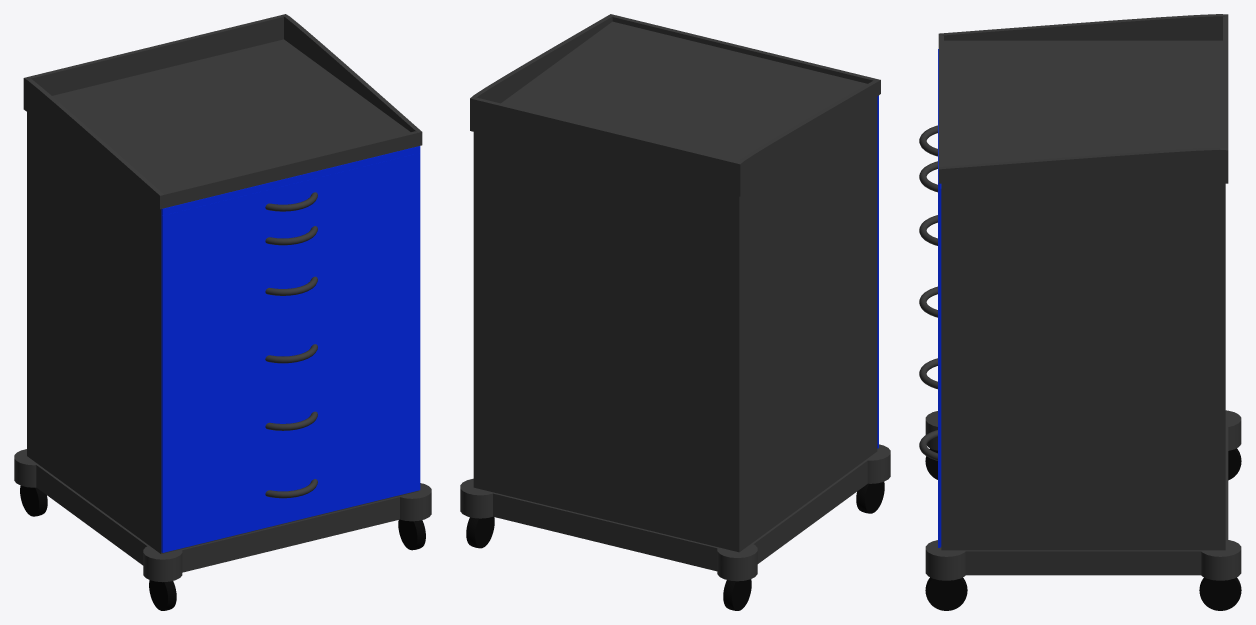
File: Anethesia Cart v1.4.FBX
3 views of the same model, side by side, from view 1: azimuth 30°, elevation 25°; view 2: azimuth 150°, elevation 25°; view 3: azimuth 270°, elevation 25° (orthographic). The views are drawn at different scales.
Visible parts, largest first — view 1: DrawerContainer, TopWorkspace, DrawerB02, DrawerB03, DrawerB04, DrawerB01, BottomSupport, DrawerS01, DrawerS02, DrawerBar, Wheel02, Wheel03 (+1 smaller); view 2: DrawerContainer, TopWorkspace, BottomSupport, Wheel04, Wheel01, Wheel02; view 3: DrawerContainer, TopWorkspace, BottomSupport, Wheel03, Wheel04.
Part boxes in pixels (x1,y1,x2,y2): DrawerContainer: (27, 112, 418, 553); TopWorkspace: (23, 14, 422, 209); DrawerB02: (161, 288, 420, 417); DrawerB03: (161, 355, 420, 485); DrawerB04: (161, 423, 420, 552); DrawerB01: (161, 220, 420, 350); BottomSupport: (14, 449, 431, 582); DrawerS01: (161, 153, 420, 249); DrawerS02: (161, 186, 420, 283); DrawerBar: (161, 146, 420, 215); Wheel02: (149, 580, 176, 610); Wheel03: (398, 519, 425, 550); DrawerContainer: (473, 97, 877, 552); TopWorkspace: (470, 14, 880, 196); BottomSupport: (460, 444, 890, 581); Wheel04: (466, 517, 494, 548); Wheel01: (723, 579, 751, 610); Wheel02: (856, 482, 884, 513); DrawerContainer: (941, 183, 1225, 550); TopWorkspace: (938, 14, 1228, 183); BottomSupport: (925, 410, 1241, 580); Wheel03: (925, 577, 967, 610); Wheel04: (1199, 577, 1241, 610).
Size of the model in its own units: 66 by 96.96 by 61.14.
